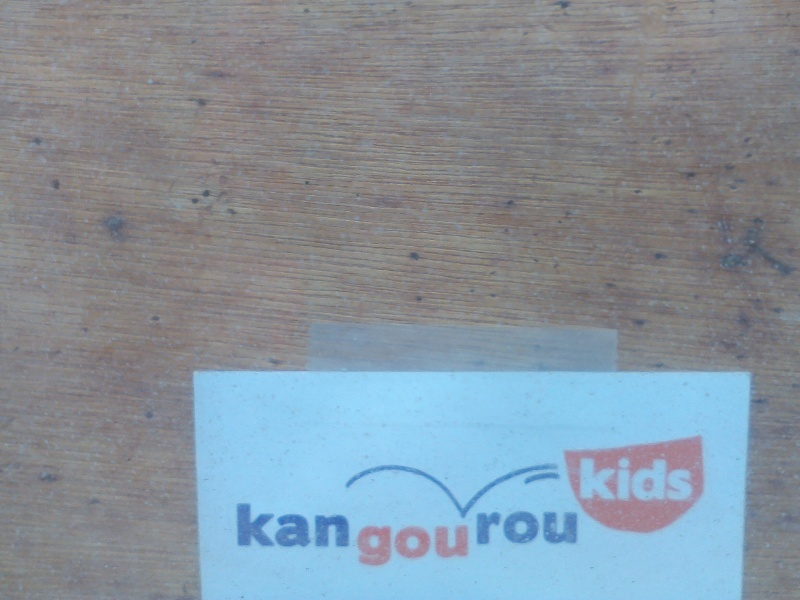text: (241, 502, 256, 568), (257, 502, 272, 568), (273, 502, 288, 568), (289, 502, 304, 568), (305, 502, 320, 568), (321, 502, 336, 568), (337, 502, 352, 568), (353, 502, 368, 568), (369, 502, 384, 568), (385, 502, 400, 568), (401, 502, 416, 568), (417, 502, 432, 568), (433, 502, 448, 568), (449, 502, 464, 568), (465, 502, 480, 568), (481, 502, 496, 568), (497, 502, 512, 568), (513, 502, 528, 568), (529, 502, 544, 568), (545, 502, 560, 568), (561, 502, 576, 568), (593, 454, 608, 501), (609, 454, 624, 501), (625, 454, 640, 501), (641, 454, 656, 501), (657, 454, 672, 501), (673, 454, 688, 501), (581, 454, 592, 501), (577, 502, 583, 568), (236, 502, 240, 568), (689, 454, 693, 501)
